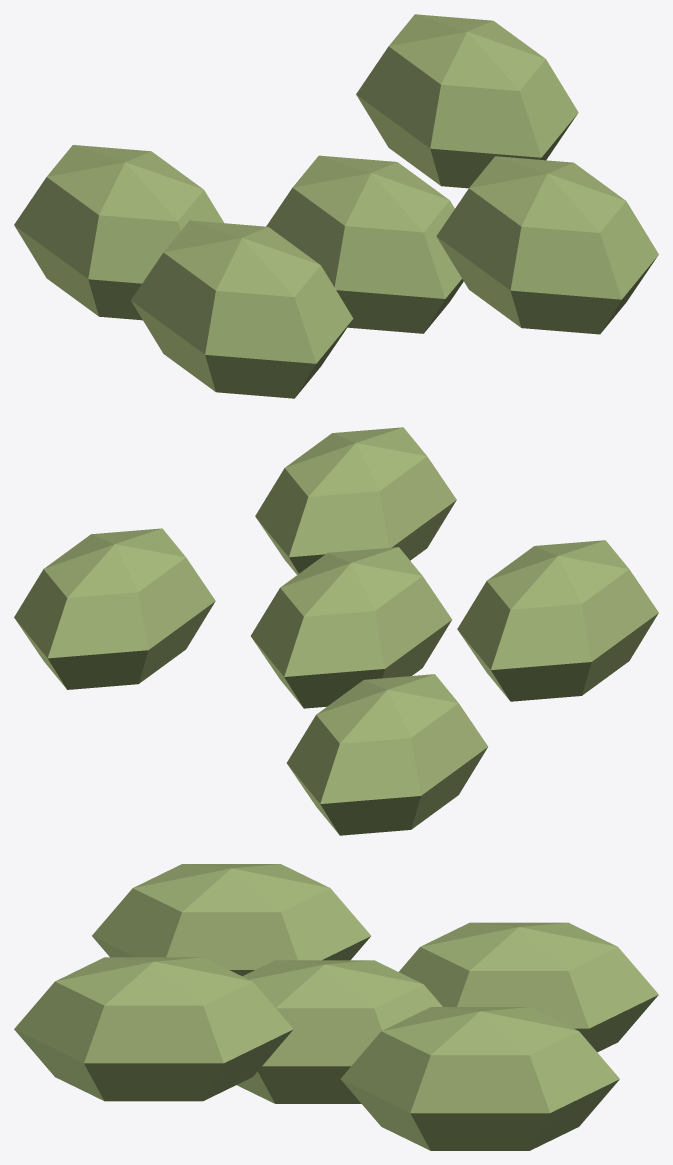
The model's file is seeds_held.gltf.
3 views of the same model, one above another, from view 1: azimuth 30°, elevation 25°; view 2: azimuth 150°, elevation 25°; view 3: azimuth 270°, elevation 25° (orthographic). The views are drawn at different scales.
Parts seen in each view (by area): view 1: animals_seeds_held; view 2: animals_seeds_held; view 3: animals_seeds_held.
Part boxes in pixels (<box>): animals_seeds_held: <box>14,14,658,398</box>; animals_seeds_held: <box>14,427,658,835</box>; animals_seeds_held: <box>14,864,658,1150</box>.
Size of the model in its own units: 0.0708 by 0.0292 by 0.083.
